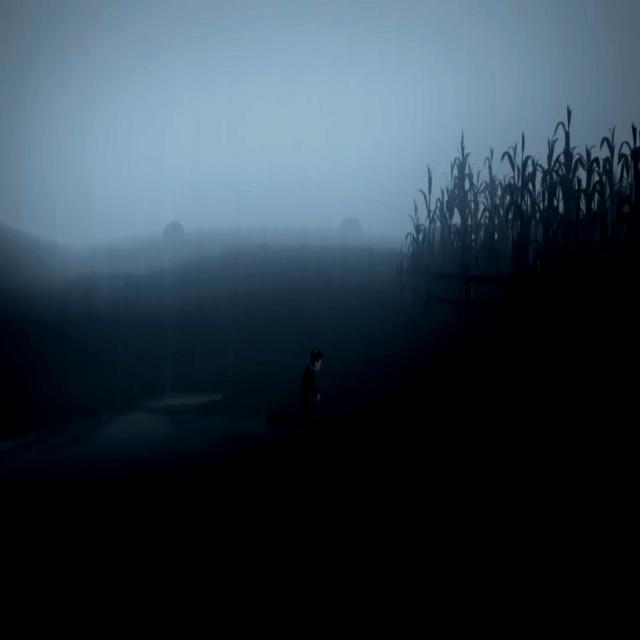boy: (291, 349, 322, 434)
